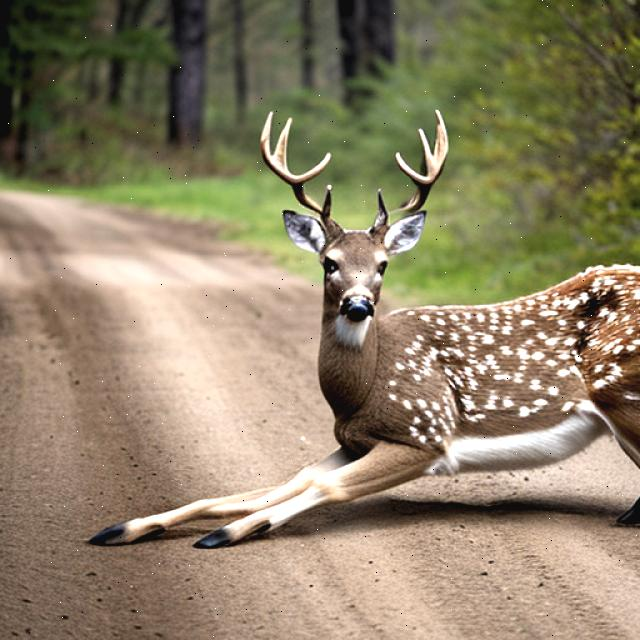deer: (85, 128, 640, 588)
